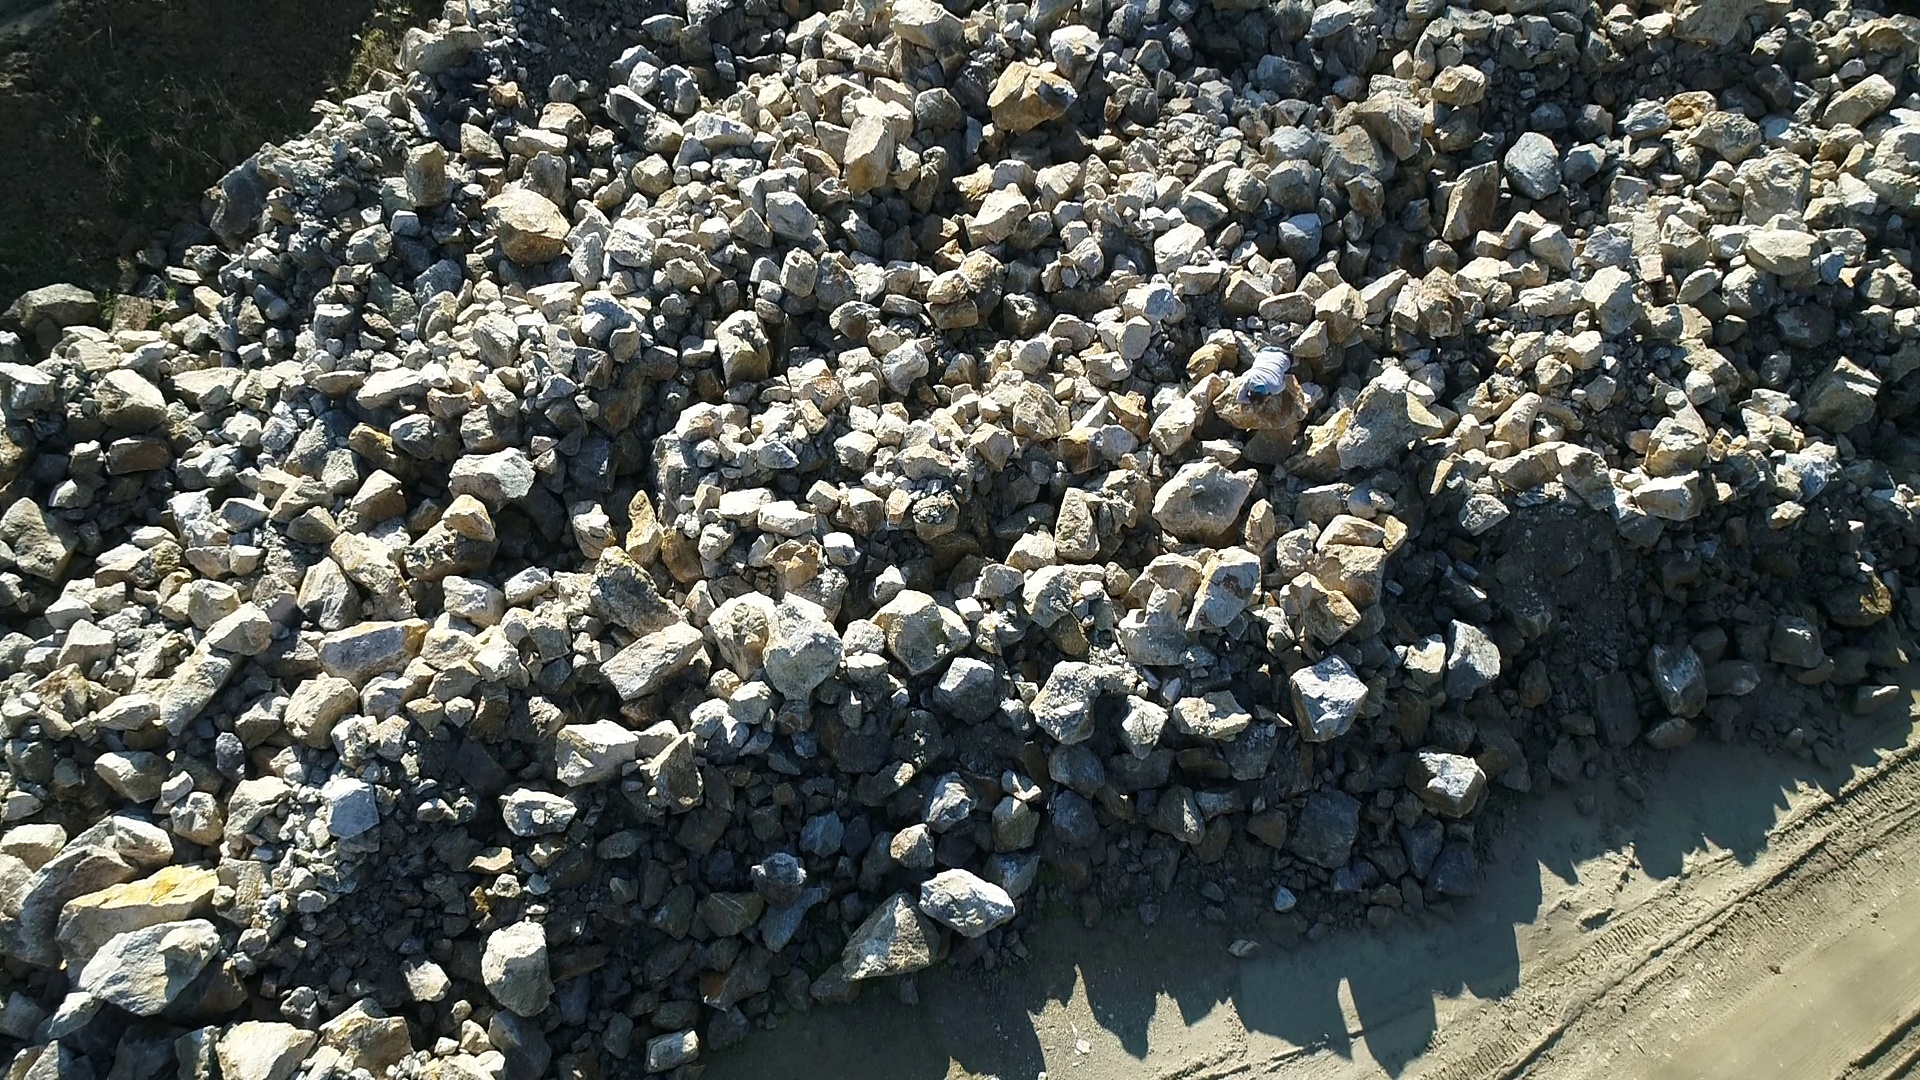person: (1233, 340, 1296, 412)
